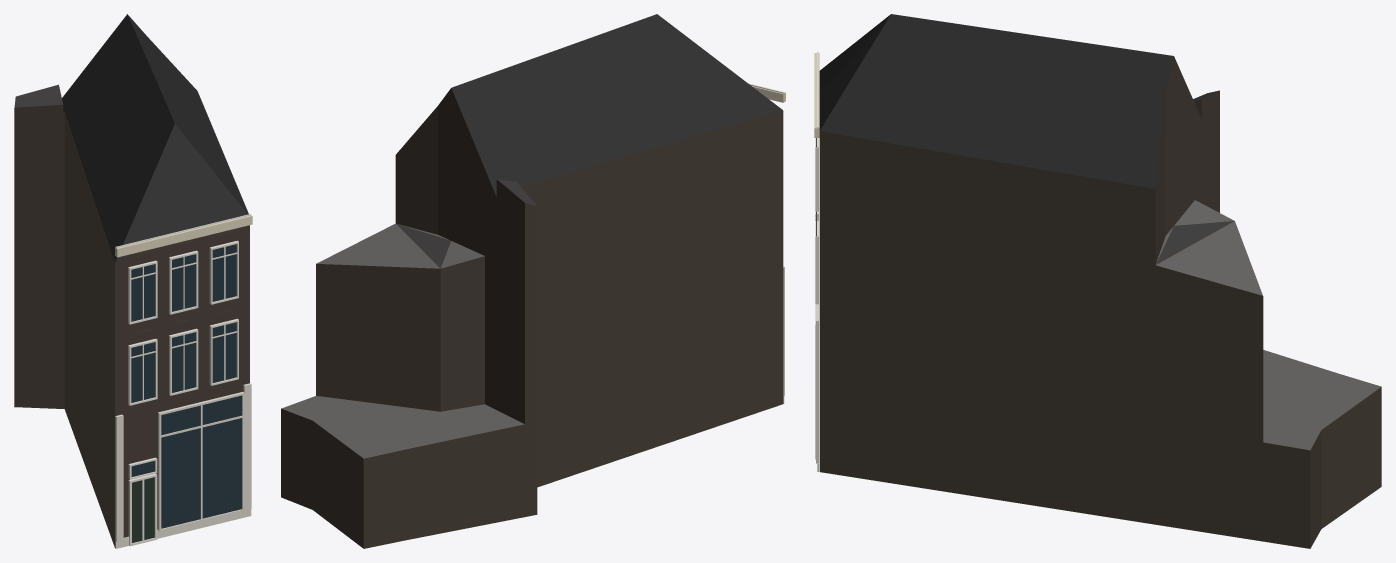
The picture shows the model from 3 angles, left to right: view 1: azimuth 30°, elevation 25°; view 2: azimuth 150°, elevation 25°; view 3: azimuth 270°, elevation 25°; orthographic projection. The views are drawn at different scales.
Visible parts, largest first — view 1: spec-0363100012182302; view 2: spec-0363100012182302; view 3: spec-0363100012182302.
Part boxes in pixels (x1,y1,x2,y2): spec-0363100012182302: (14, 14, 252, 548); spec-0363100012182302: (281, 14, 785, 548); spec-0363100012182302: (814, 14, 1381, 548).
Bounding box in the file's own units: 11.85 × 15.76 × 18.67.
